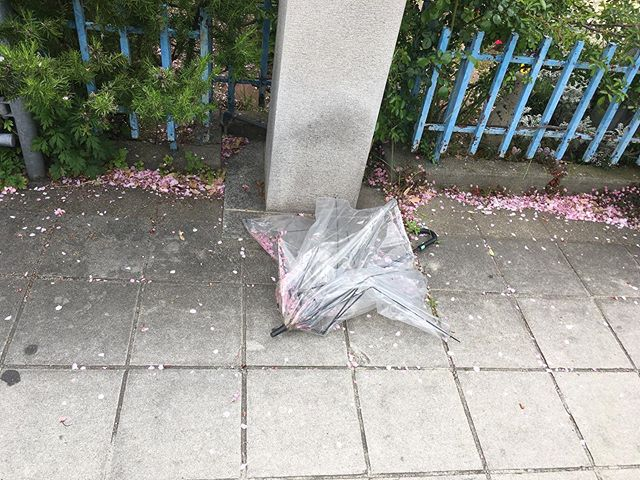umbrella: (173, 157, 501, 363)
